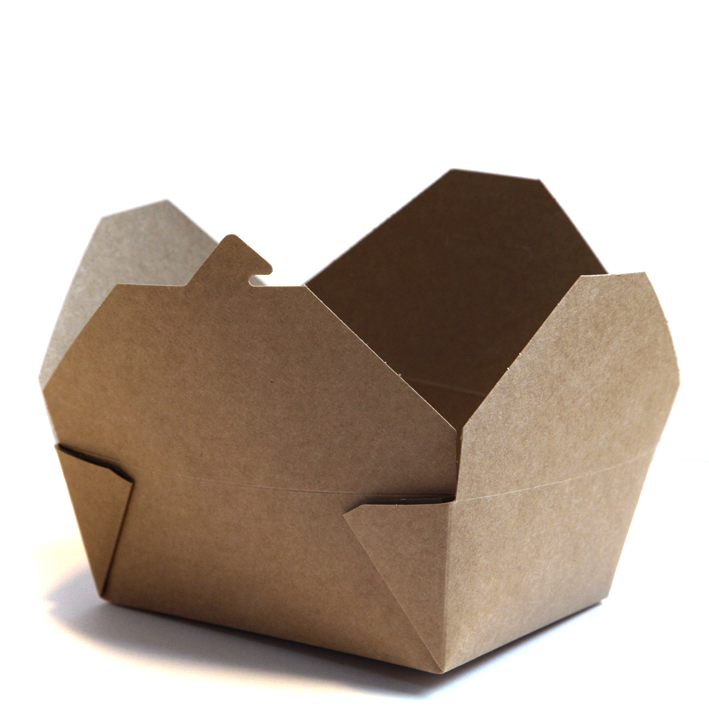Rec_Paper: (34, 167, 688, 670)
